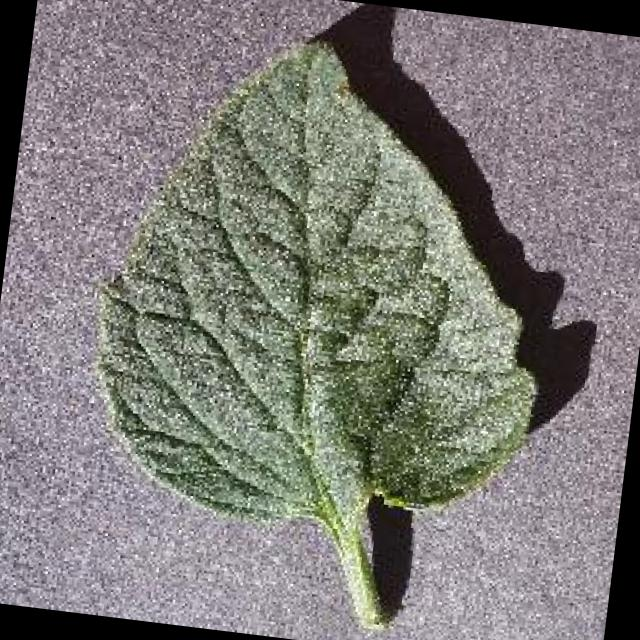Tomato_Healthy: (49, 0, 602, 565)
